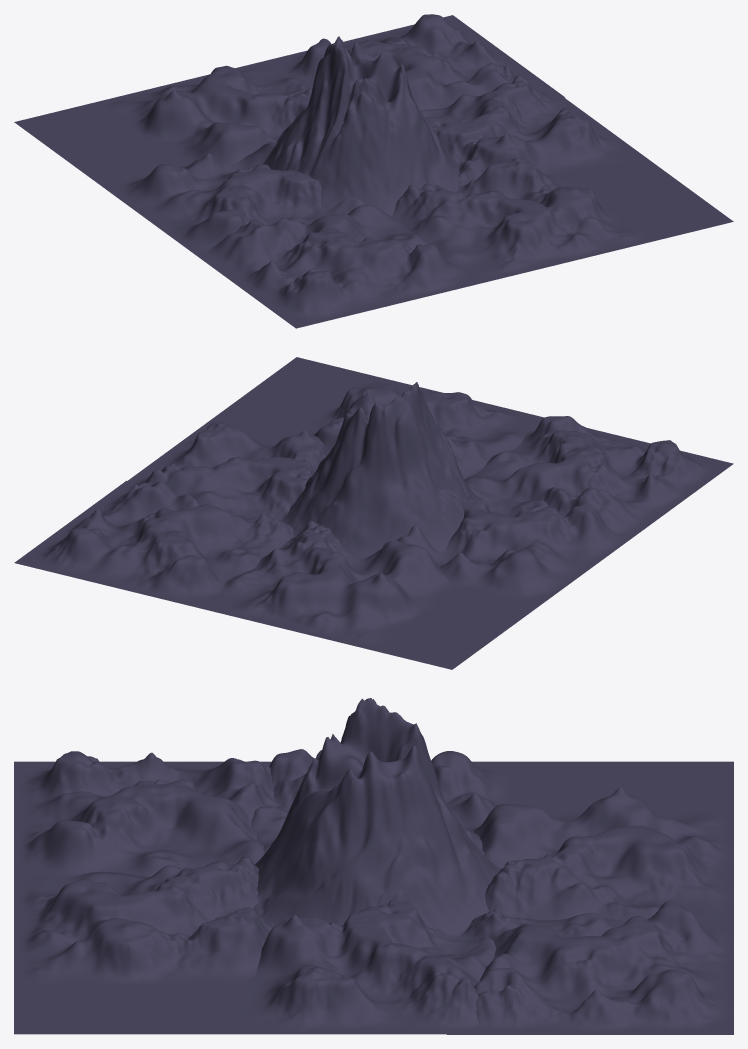
Rendered from mount_test.glb.
3 renders of one model, top to bottom at view 1: azimuth 30°, elevation 25°; view 2: azimuth 150°, elevation 25°; view 3: azimuth 270°, elevation 25°, orthographic. The views are drawn at different scales.
Visible parts, largest first — view 1: MountPoop; view 2: MountPoop; view 3: MountPoop.
Boxes of the visible parts, left/top/right/bottom form: MountPoop: left=14, top=14, right=733, bottom=328; MountPoop: left=14, top=357, right=733, bottom=669; MountPoop: left=14, top=698, right=733, bottom=1034.
Bounding box in the file's own units: 450 × 135 × 501.
